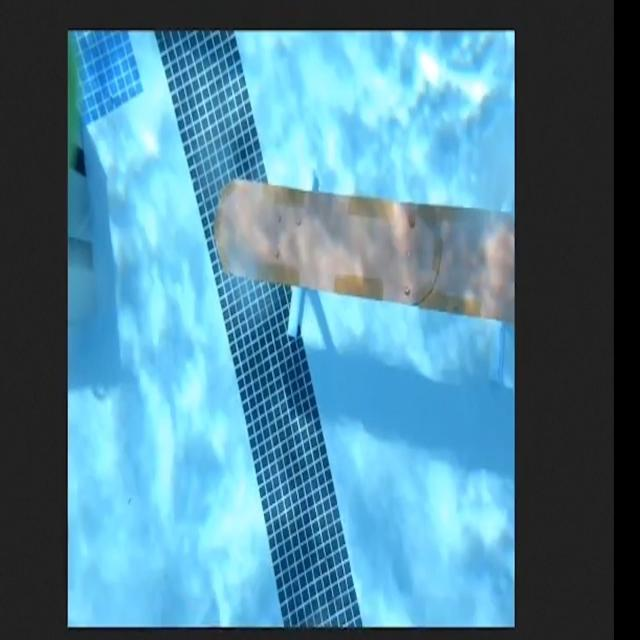Path: (212, 176, 515, 327)
